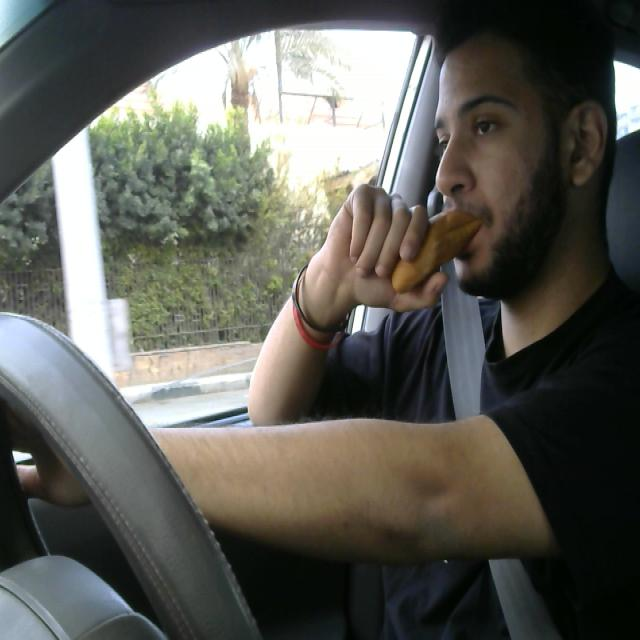eating: (390, 202, 482, 310)
